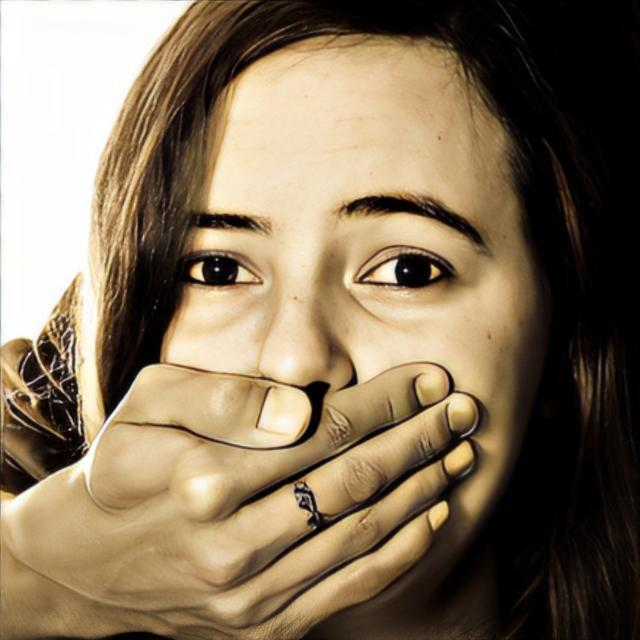fear: (158, 30, 550, 640)
